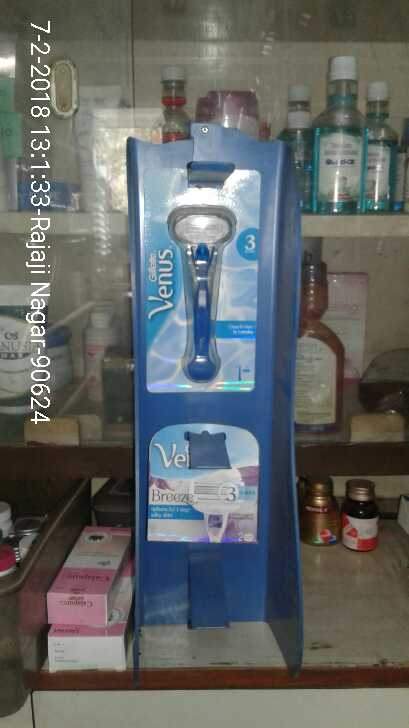venus: (137, 164, 261, 396), (143, 424, 265, 546)
